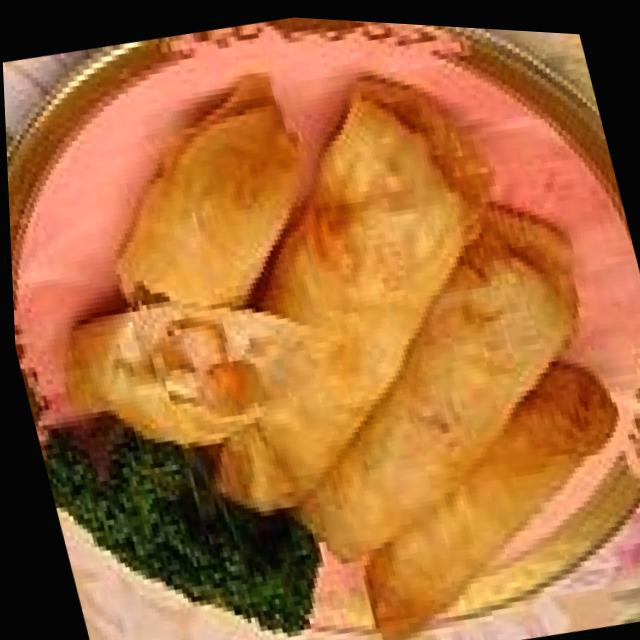鸡蛋料理: (3, 0, 640, 640)
